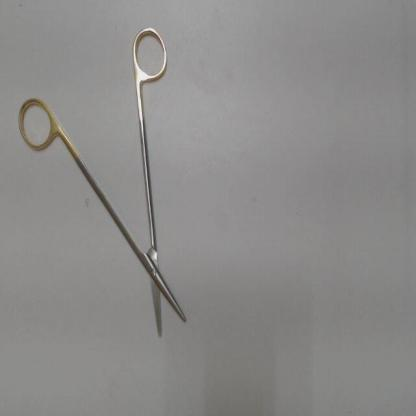7 Metzenbaum Scissors: (15, 21, 188, 341)
